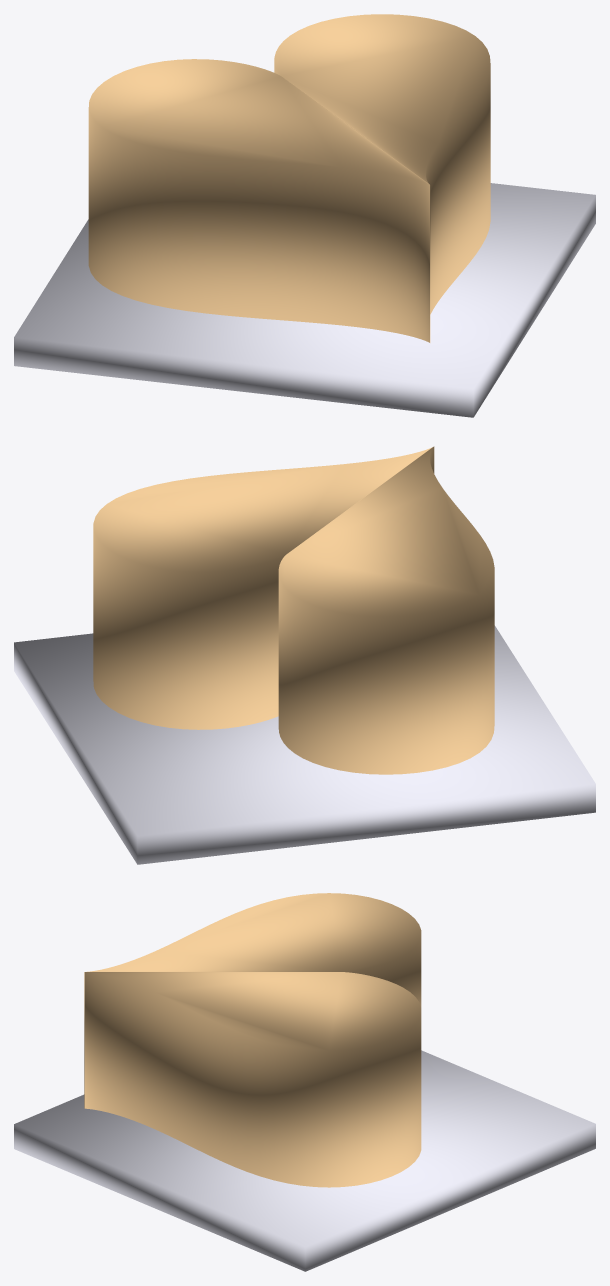
Rendered from heart_shape.glb.
The picture shows the model from 3 angles, top to bottom: view 1: azimuth 30°, elevation 25°; view 2: azimuth 150°, elevation 25°; view 3: azimuth 270°, elevation 25°; orthographic projection. The views are drawn at different scales.
Parts seen in each view (by area): view 1: HeartCake, IcingStand; view 2: HeartCake, IcingStand; view 3: HeartCake, IcingStand.
Part boxes in pixels (x1,y1,x2,y2): HeartCake: [88, 14, 490, 342]; IcingStand: [14, 183, 595, 417]; HeartCake: [93, 446, 494, 774]; IcingStand: [14, 625, 595, 864]; HeartCake: [84, 893, 421, 1187]; IcingStand: [14, 1050, 595, 1271].
Size of the model in its own units: 4.24 by 1.42 by 4.24.
